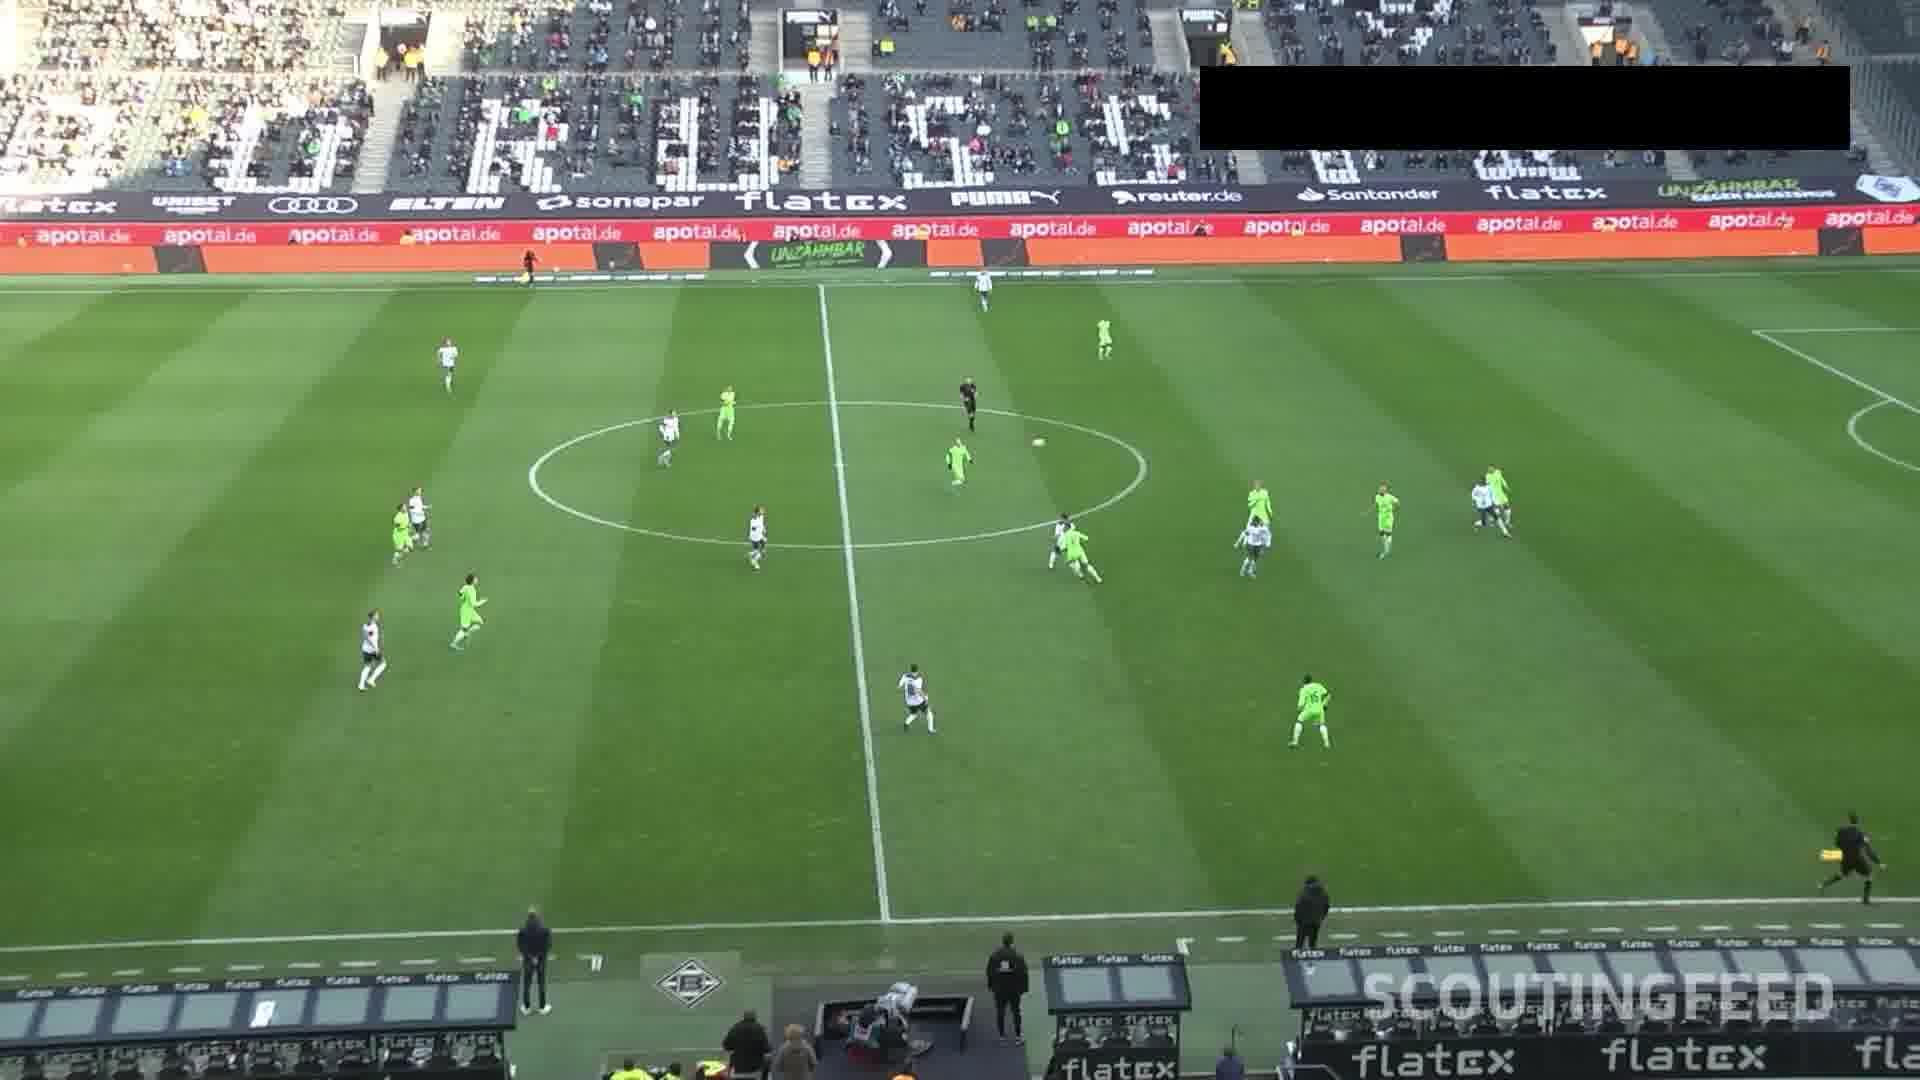football: (1029, 434, 1049, 449)
